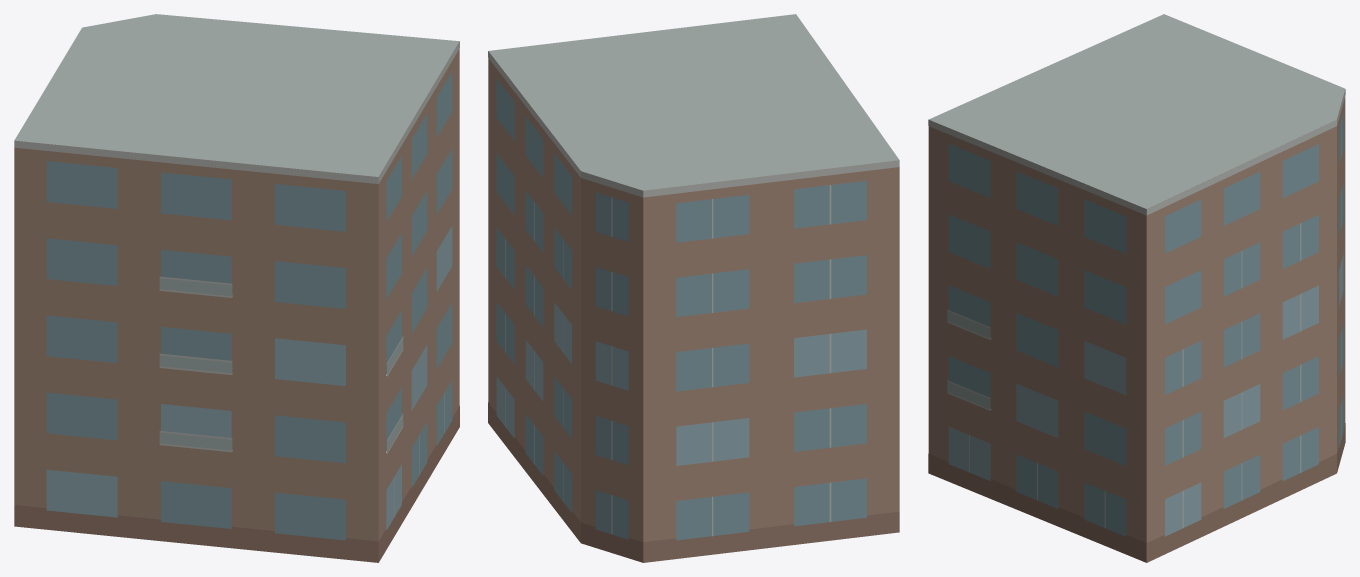
Rendered from survey-upis-33045111.glb.
3 views of the same model, side by side, from view 1: azimuth 30°, elevation 25°; view 2: azimuth 150°, elevation 25°; view 3: azimuth 270°, elevation 25° (orthographic). The views are drawn at different scales.
Visible parts, largest first — view 1: survey-upis-33045111.tmp; view 2: survey-upis-33045111.tmp; view 3: survey-upis-33045111.tmp.
Boxes of the visible parts, x1=… form: survey-upis-33045111.tmp: x1=14, y1=14, x2=459, y2=562; survey-upis-33045111.tmp: x1=488, y1=14, x2=899, y2=562; survey-upis-33045111.tmp: x1=928, y1=14, x2=1345, y2=562.
Bounding box in the file's own units: 15.86 × 13.4 × 14.32.
